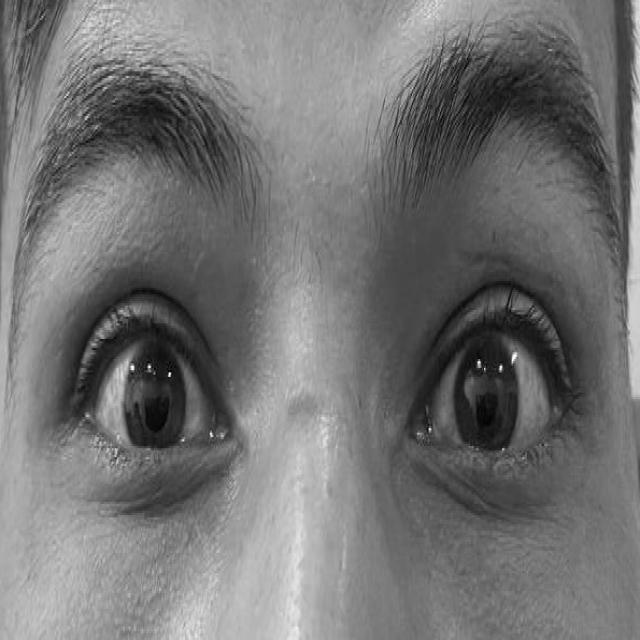real: (21, 184, 616, 574)
